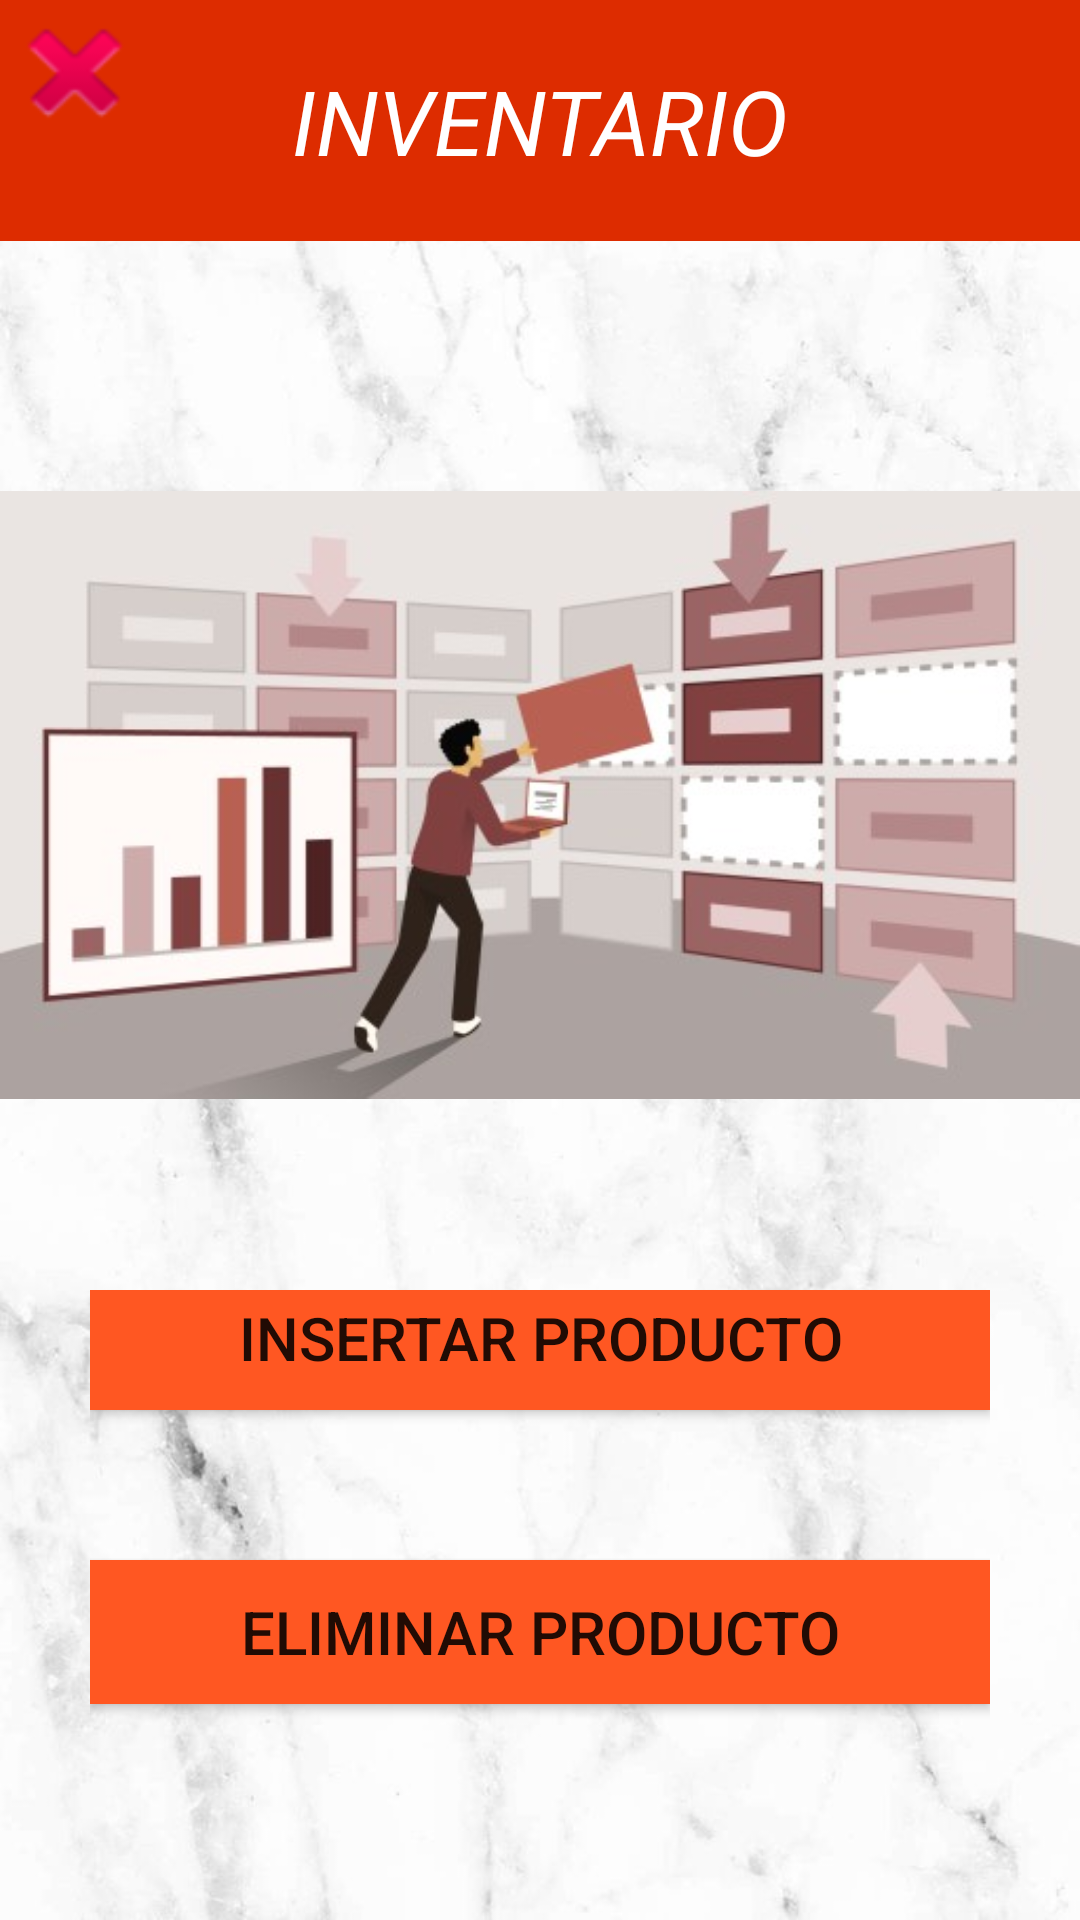

Screen size 1080×1920. Icon name, then its center in pixels as point (x, y):
delete: point (75, 73)
